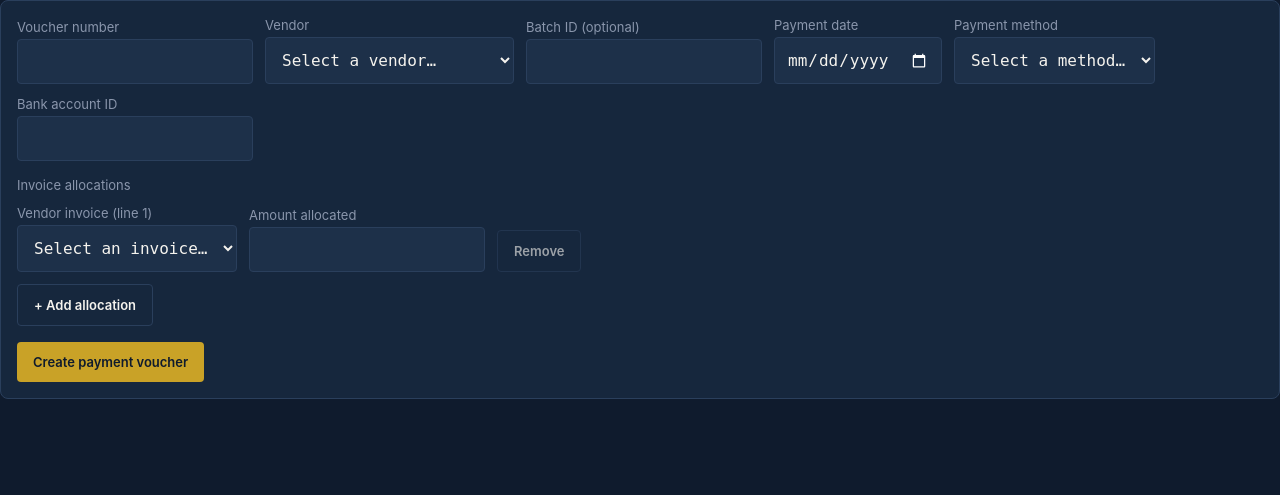
Scenario: CreatePaymentVoucherForm › adds and removes allocation rows
Click the button "+ Add allocation".
click(85, 305)  # box [17,284,153,326]
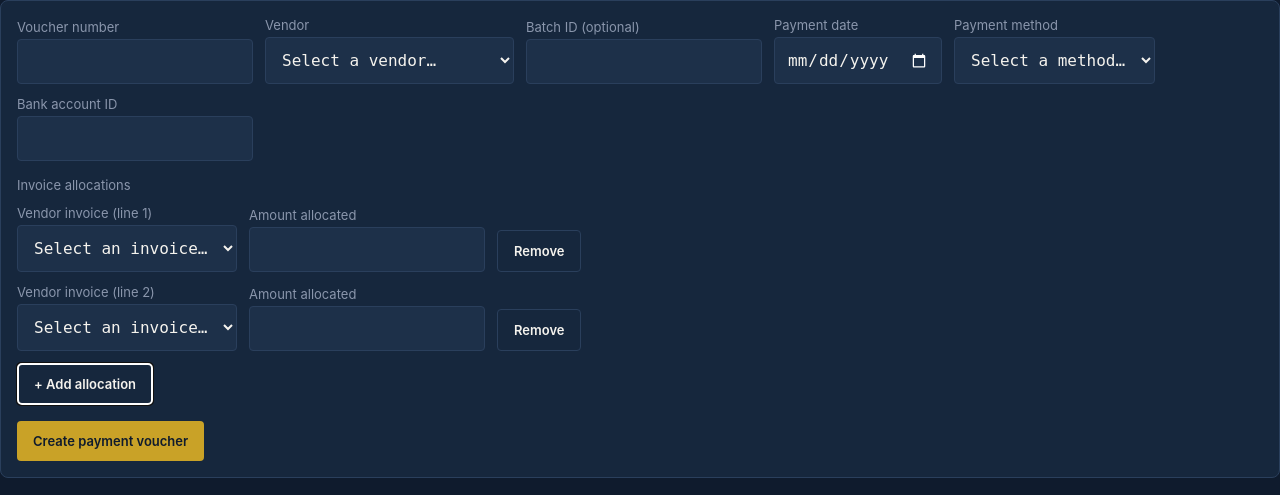
Now the dropdown labelled "Vendor invoice (line 2)" is shown, box [17,304,237,351]
Click the 2nd button "Remove".
click(539, 330)  # box [497,309,582,351]
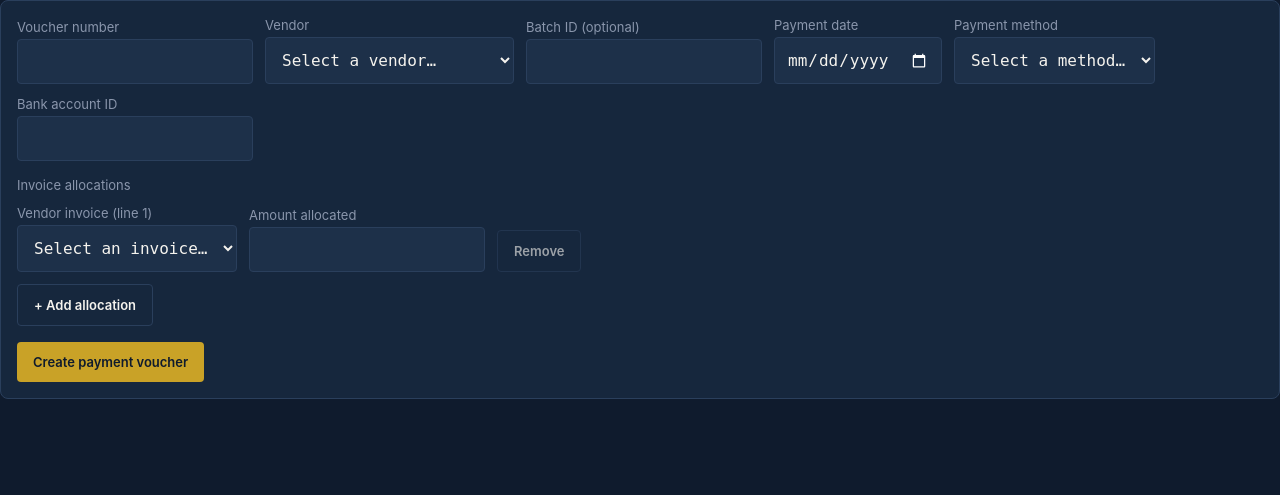
Now the label labelled "Vendor invoice (line 2)" is gone
